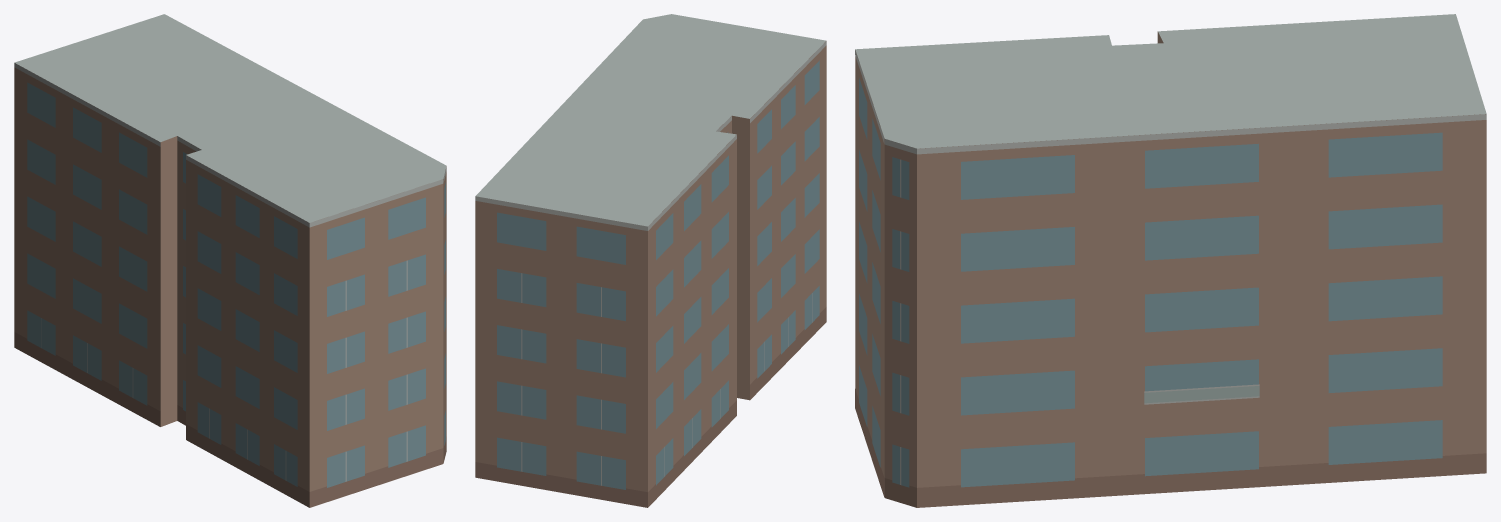
File: survey-upis-32575359.glb
3 renders of one model, left to right at view 1: azimuth 30°, elevation 25°; view 2: azimuth 150°, elevation 25°; view 3: azimuth 270°, elevation 25°, orthographic. The views are drawn at different scales.
Parts seen in each view (by area): view 1: survey-upis-32575359.tmp; view 2: survey-upis-32575359.tmp; view 3: survey-upis-32575359.tmp.
Boxes of the visible parts, x1,y1,x2,y2 form: survey-upis-32575359.tmp: [14, 14, 446, 507]; survey-upis-32575359.tmp: [475, 14, 826, 507]; survey-upis-32575359.tmp: [855, 14, 1486, 507].
Bounding box in the file's own units: 12.1 × 15.05 × 23.98.
